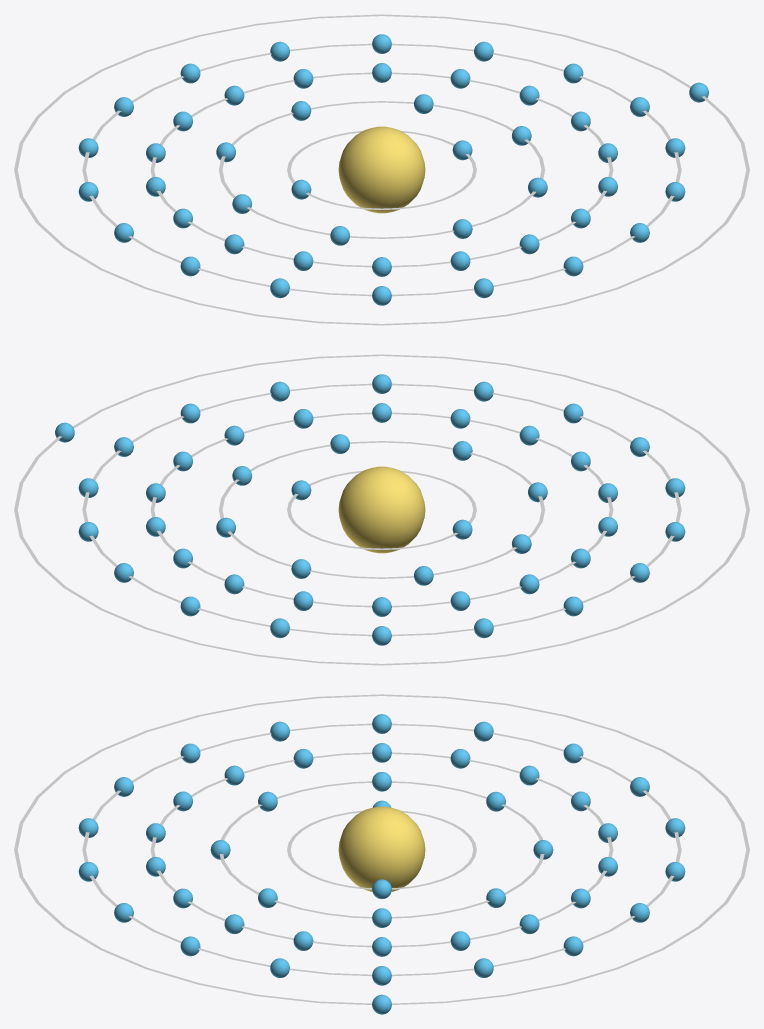
File: gold_atom.glb
The picture shows the model from 3 angles, top to bottom: view 1: azimuth 30°, elevation 25°; view 2: azimuth 150°, elevation 25°; view 3: azimuth 270°, elevation 25°; orthographic projection.
Visible parts, largest first — view 1: nucleus_node, shell_ring_4, shell_ring_3, shell_ring_2, shell_ring_1, shell_ring_0; view 2: nucleus_node, shell_ring_4, shell_ring_3, shell_ring_2, shell_ring_1, shell_ring_0; view 3: nucleus_node, shell_ring_4, shell_ring_3, shell_ring_2, shell_ring_1, shell_ring_0.
Part boxes in pixels (<box>): nucleus_node: <box>338,126,425,213</box>; shell_ring_4: <box>14,14,749,325</box>; shell_ring_3: <box>82,43,681,296</box>; shell_ring_2: <box>150,72,613,267</box>; shell_ring_1: <box>219,101,544,238</box>; shell_ring_0: <box>287,130,476,209</box>; nucleus_node: <box>338,466,425,553</box>; shell_ring_4: <box>14,354,749,665</box>; shell_ring_3: <box>82,383,681,636</box>; shell_ring_2: <box>150,412,613,607</box>; shell_ring_1: <box>219,441,544,578</box>; shell_ring_0: <box>287,470,476,549</box>; nucleus_node: <box>338,806,425,891</box>; shell_ring_4: <box>14,694,749,1004</box>; shell_ring_3: <box>82,723,681,976</box>; shell_ring_2: <box>150,752,613,947</box>; shell_ring_1: <box>219,781,544,918</box>; shell_ring_0: <box>287,810,476,889</box>.
Size of the model in its own units: 5.99 by 0.7 by 5.93.
